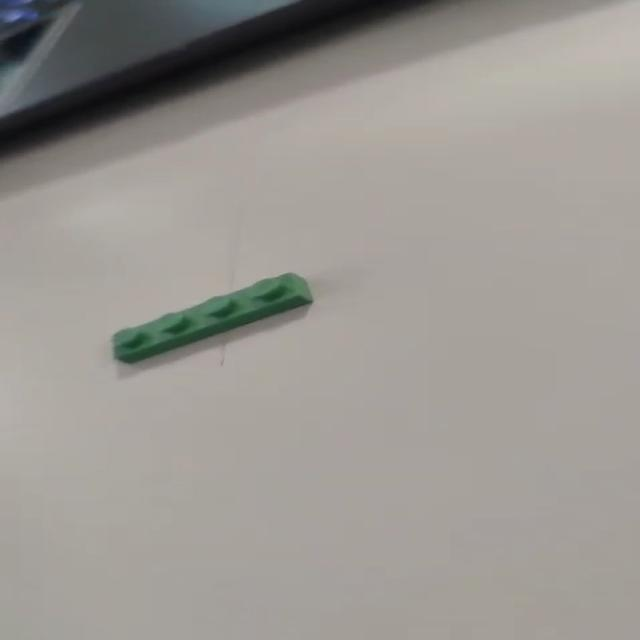C4x1x0: (99, 270, 314, 370)
